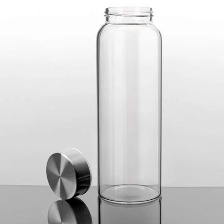bottle: (91, 2, 167, 205)
